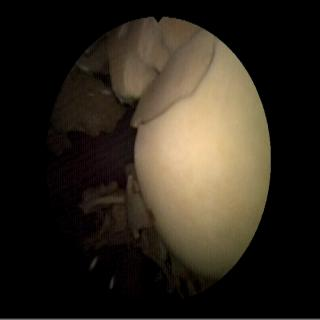stone: (77, 19, 267, 295), (53, 73, 125, 137)
